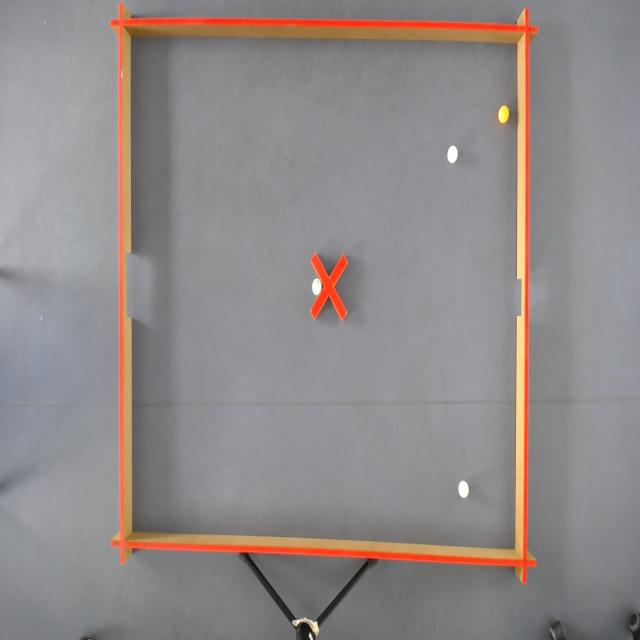cross: (309, 251, 349, 323)
orange_ball: (498, 104, 510, 124)
white_ball: (446, 144, 460, 166), (457, 478, 470, 501), (311, 276, 323, 298)
